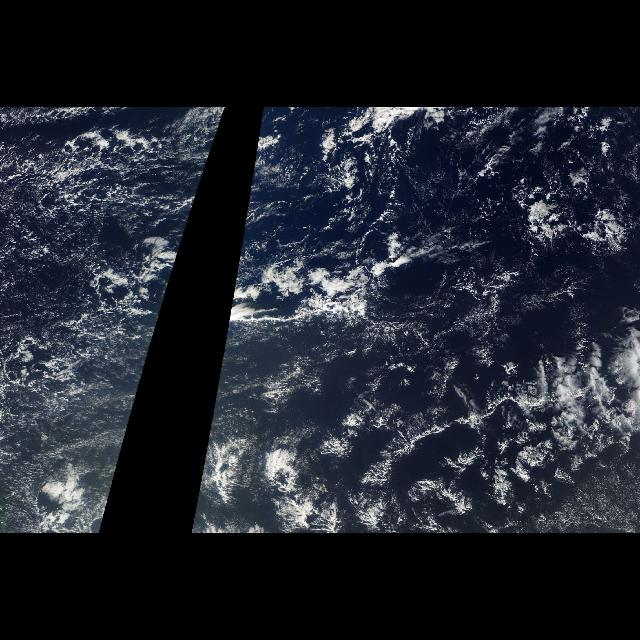Gravel: (2, 122, 198, 386), (414, 352, 626, 506)
Sugar: (6, 338, 150, 526), (205, 353, 301, 449)
